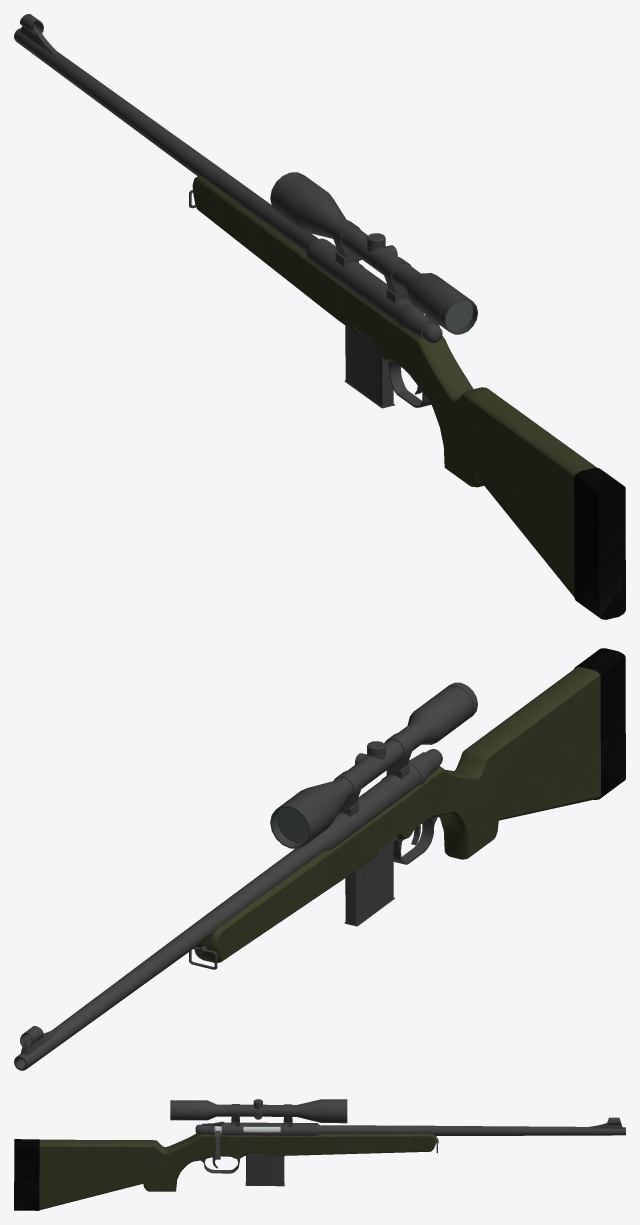
The picture shows the model from 3 angles, top to bottom: view 1: azimuth 30°, elevation 25°; view 2: azimuth 150°, elevation 25°; view 3: azimuth 270°, elevation 25°; orthographic projection. The views are drawn at different scales.
Parts seen in each view (by area): view 1: govde, sarjor; view 2: govde, sarjor; view 3: govde, sarjor, surgu.
Boxes of the visible parts, x1,y1,x2,y2 form: govde: (14, 14, 625, 619); sarjor: (344, 326, 394, 408); govde: (14, 648, 625, 1070); sarjor: (344, 842, 394, 926); govde: (14, 1099, 625, 1210); sarjor: (245, 1156, 284, 1186); surgu: (195, 1124, 280, 1159).
Size of the model in its own units: 0.0568 by 0.2242 by 1.14.
Materials: 1 (1 with a texture image).
